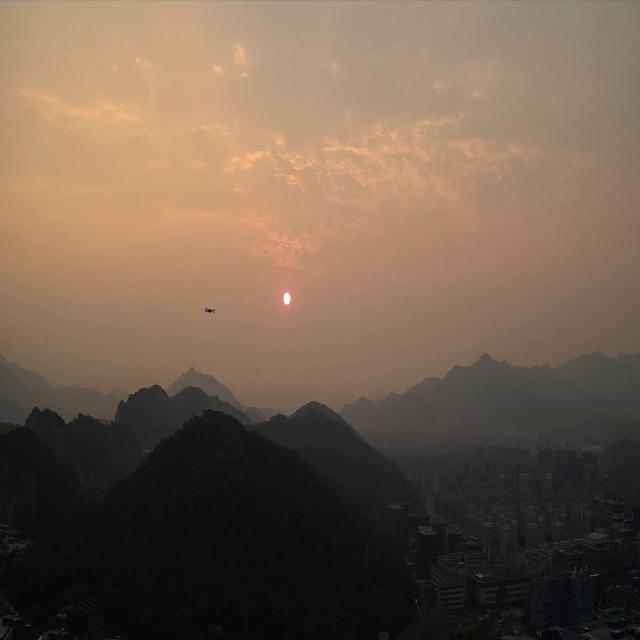UAV: (204, 307, 216, 314)
